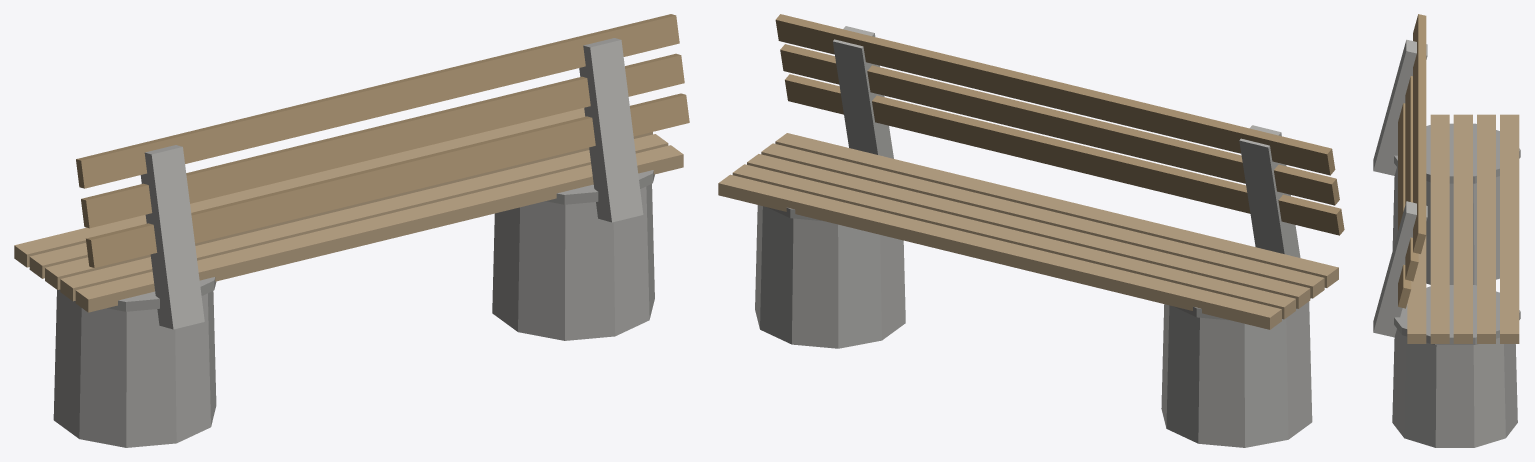
File: bench_slat.glb
3 views of the same model, side by side, from view 1: azimuth 30°, elevation 25°; view 2: azimuth 150°, elevation 25°; view 3: azimuth 270°, elevation 25° (orthographic). The views are drawn at different scales.
Bounding box in the file's own units: 1.9 × 0.8824 × 0.5393.
